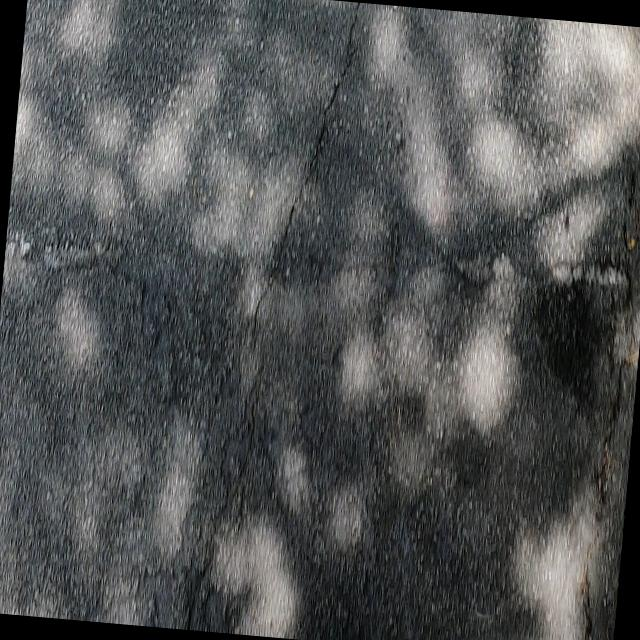Retak-Memanjang: (247, 3, 362, 343)
